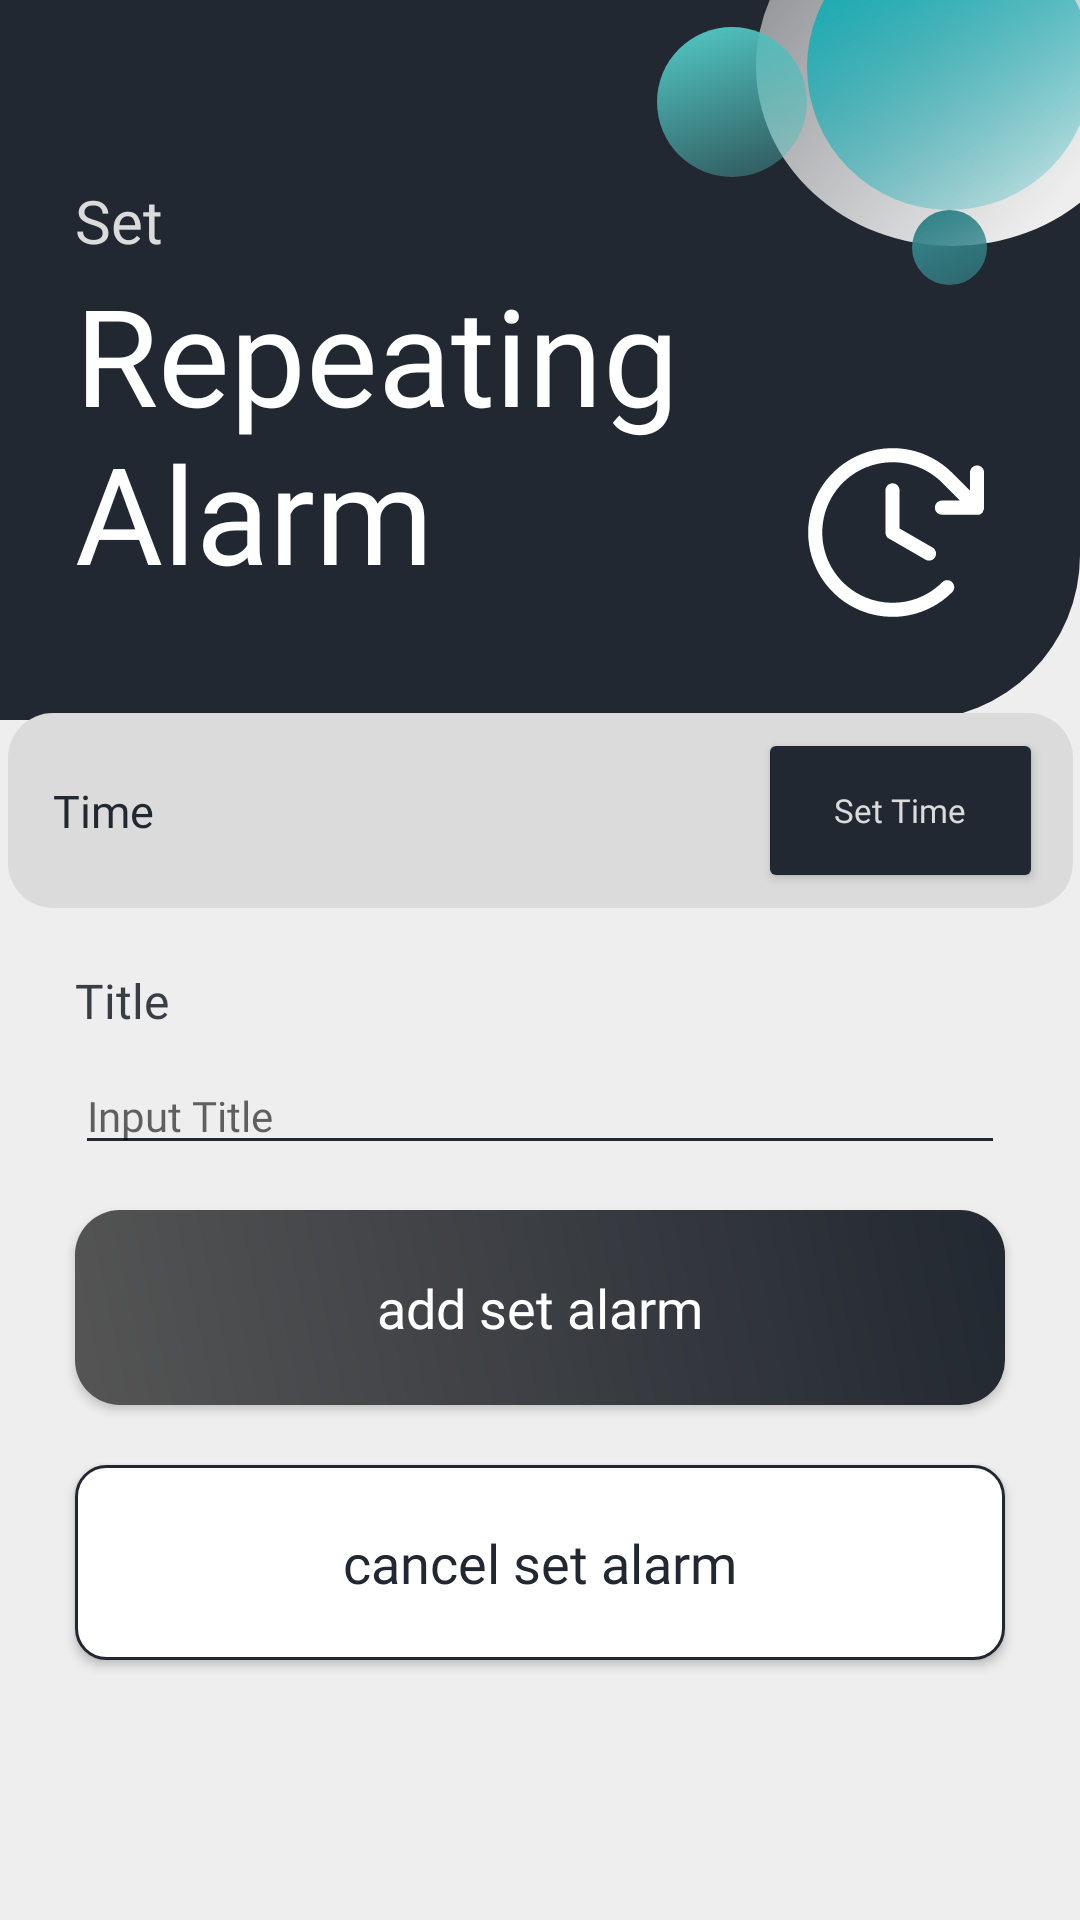

Point at icon controls on the screen. Image size 1080×1920, points as (x,y).
clock clockwise: (896,532)
